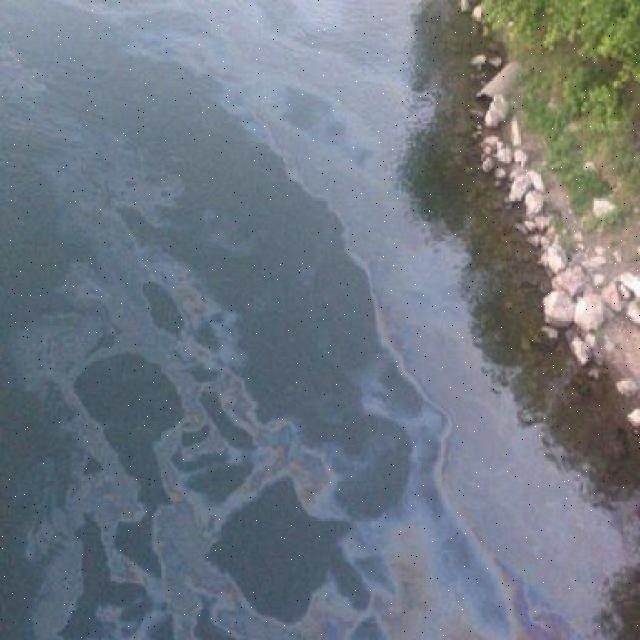oil: (10, 12, 418, 622), (432, 282, 610, 620)
